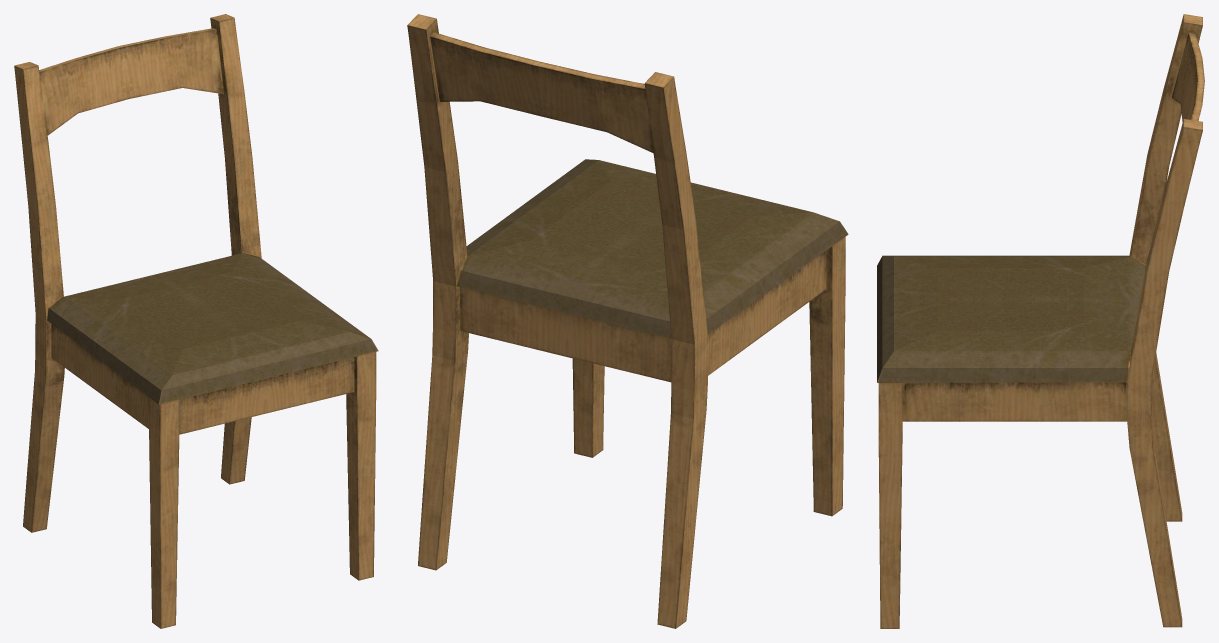
The model's file is cadeira_a.glb.
3 renders of one model, left to right at view 1: azimuth 30°, elevation 25°; view 2: azimuth 150°, elevation 25°; view 3: azimuth 270°, elevation 25°, orthographic. The views are drawn at different scales.
Visible parts, largest first — view 1: cadeira_a; view 2: cadeira_a; view 3: cadeira_a.
Part boxes in pixels (box(x1,y1,x2,y2)): cadeira_a: box(14, 14, 378, 628); cadeira_a: box(407, 14, 848, 628); cadeira_a: box(877, 14, 1204, 628).
Bounding box in the file's own units: 0.4576 × 0.9115 × 0.5401.
Materials: 1 (1 with a texture image).
